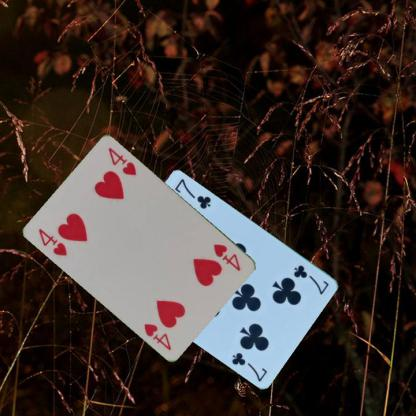4h: (36, 225, 69, 257), (211, 241, 243, 273)
7c: (291, 262, 331, 296)
